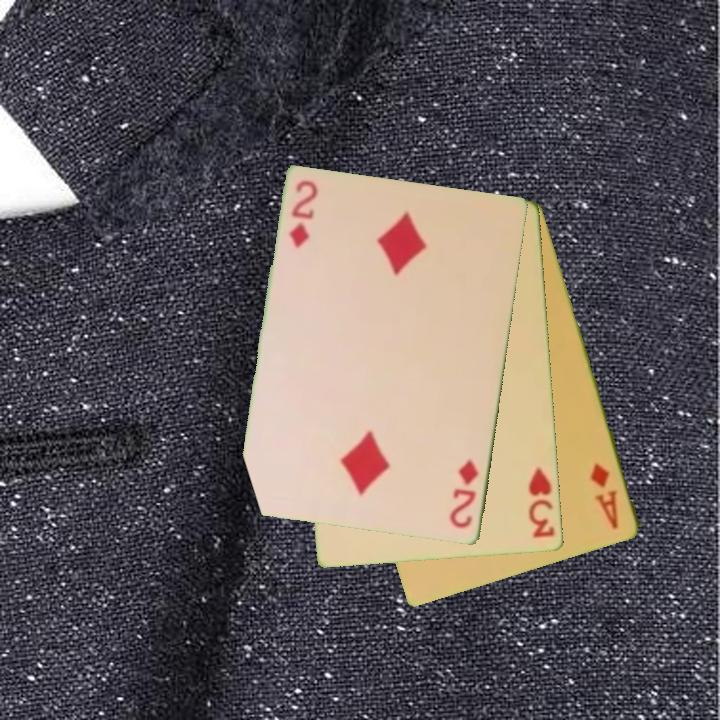2d: (446, 456, 482, 532), (286, 177, 319, 251)
3h: (525, 464, 559, 542)
Ad: (587, 459, 622, 533)
